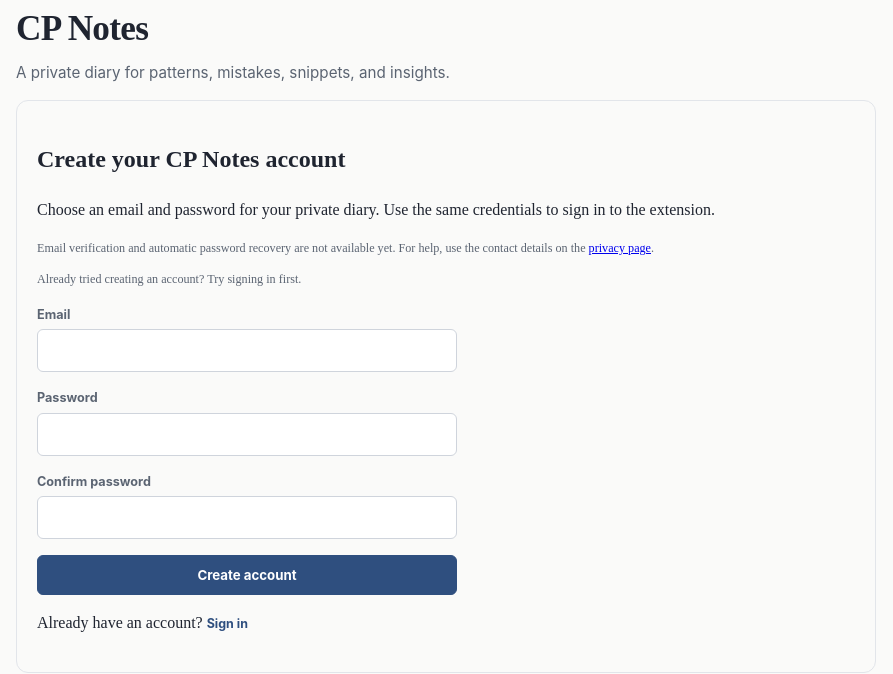
Test: ignores late public signup after another tab's logout
expect the password field labelled "Confirm password" is shown: met, box [37,496,457,539]
Type "tester@example.com" into the field labelled "Email" at x=247, y=351, box [37,329,457,372]
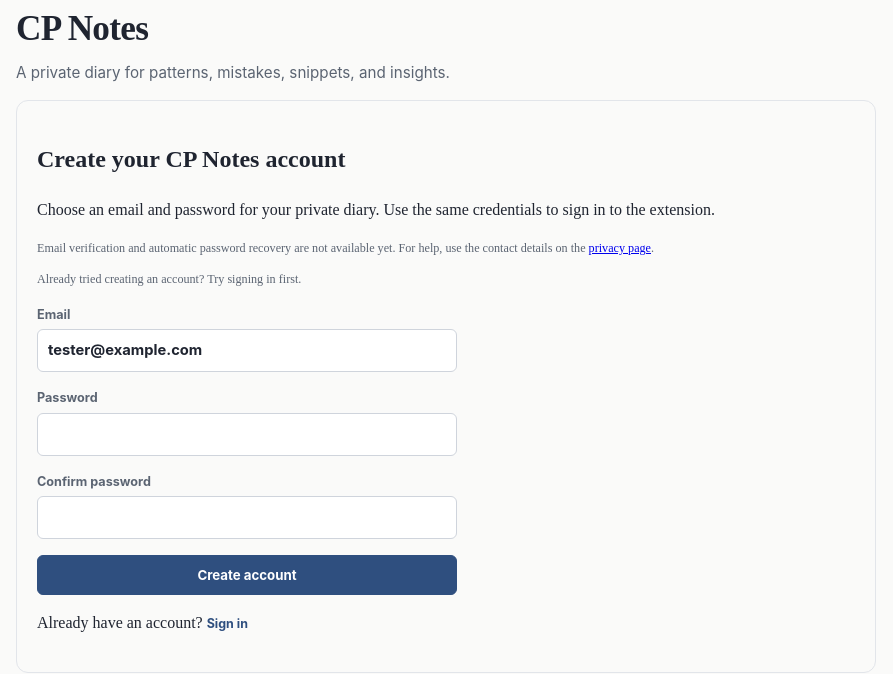
Type "a long password" into the password field labelled "Password" at x=247, y=434, box [37,413,457,456]
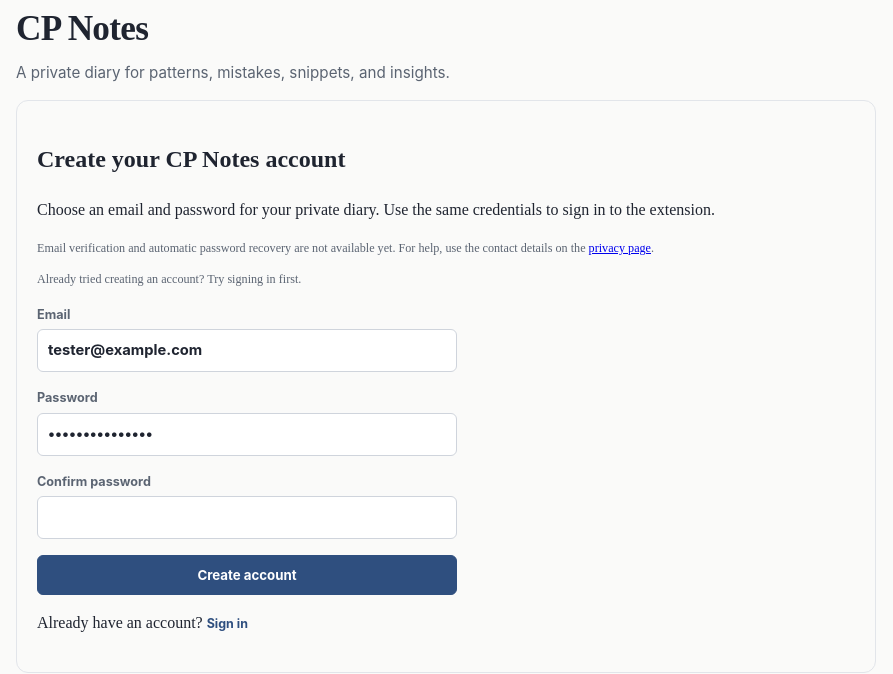
Type "a long password" into the password field labelled "Confirm password" at x=247, y=518, box [37,496,457,539]
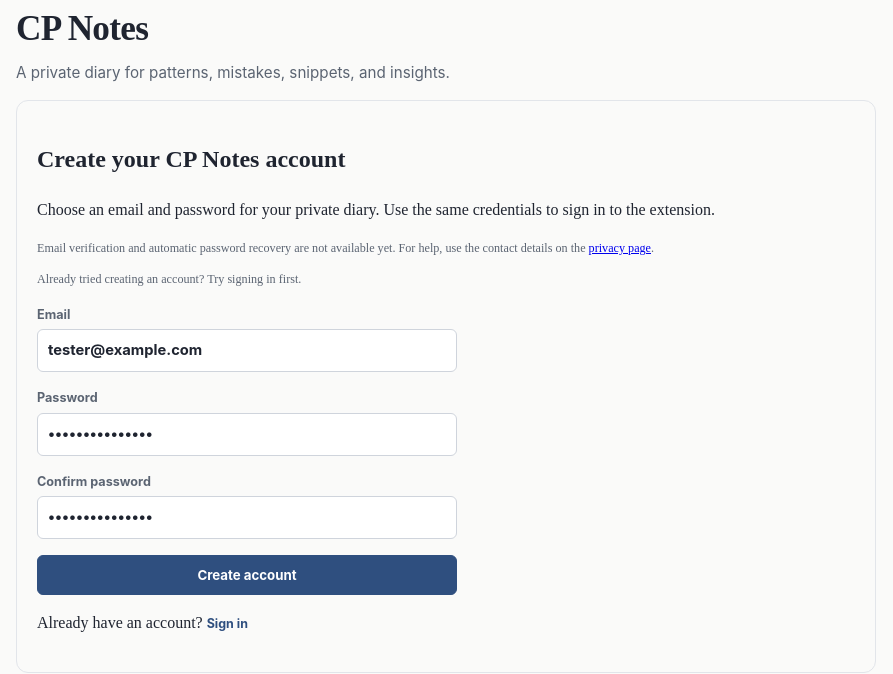
Submit the form "Create account", box [37,305,457,596]
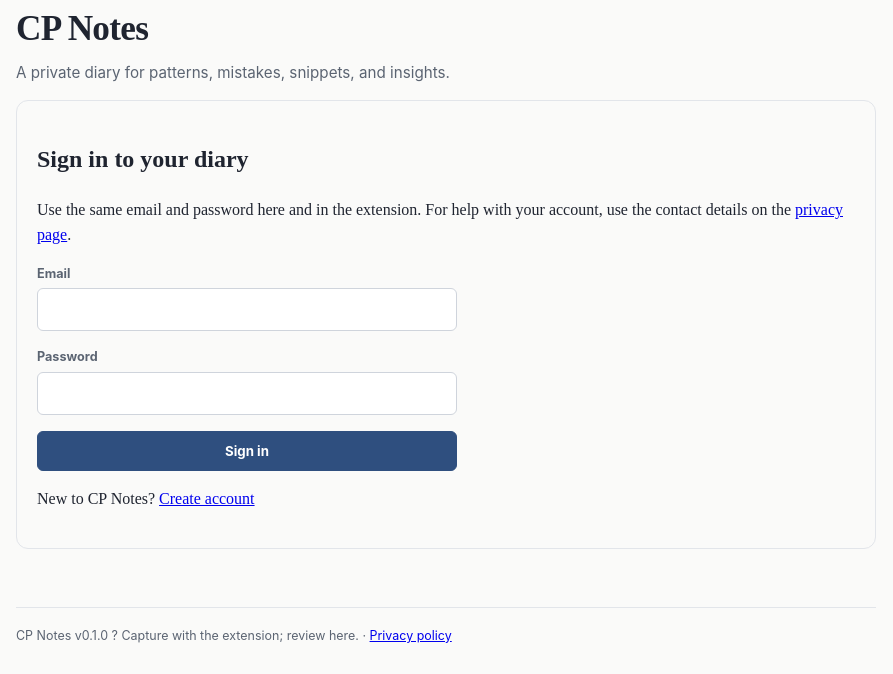
expect the field showing "tester@example.com" is not shown: met
expect the button "Sign in" is shown: met, box [37,430,457,471]
expect the label labelled "Confirm password" is gone: met
